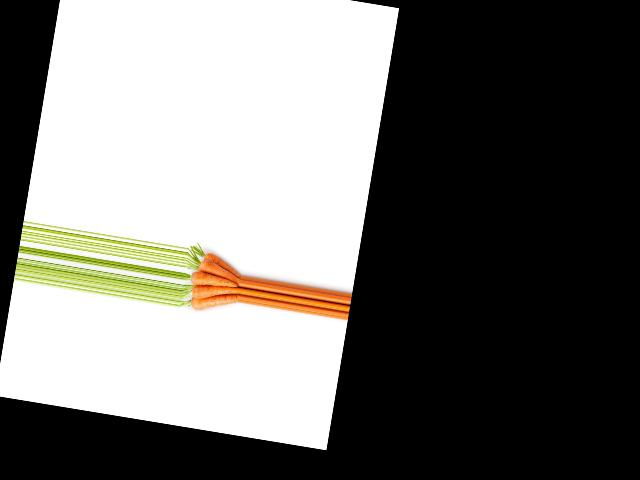carrot: (201, 247, 244, 278)
